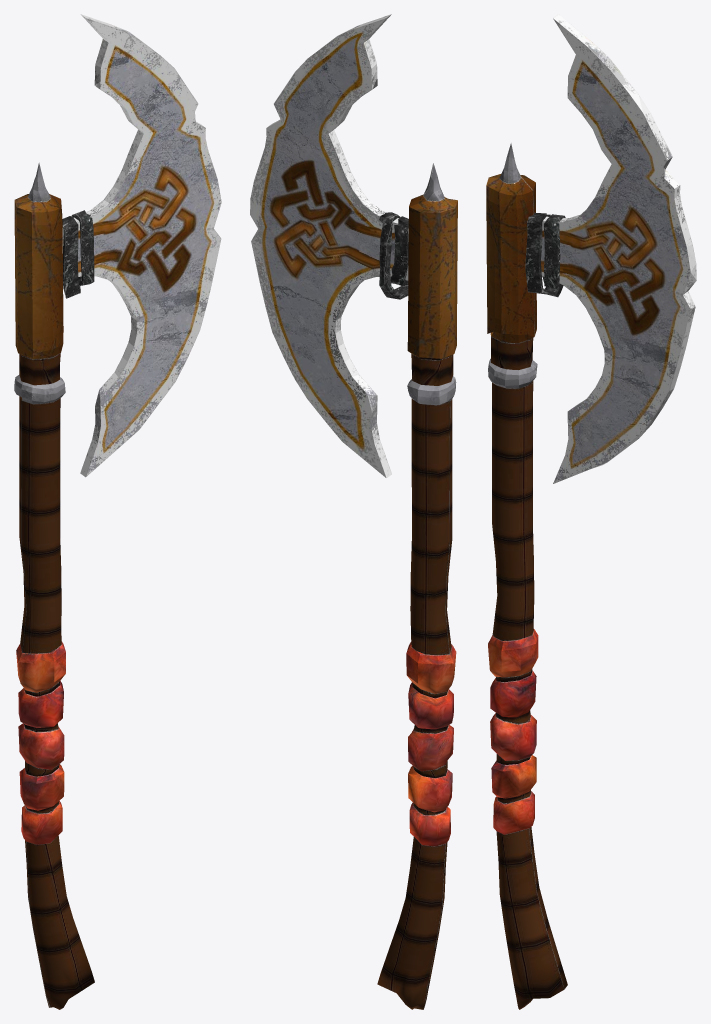
Rendered from Axe3.fbx.
The picture shows the model from 3 angles, left to right: view 1: azimuth 30°, elevation 25°; view 2: azimuth 150°, elevation 25°; view 3: azimuth 330°, elevation 25°; orthographic projection.
Parts seen in each view (by area): view 1: mesh_4; view 2: mesh_4; view 3: mesh_4.
Boxes of the visible parts, left/top/right/bottom form: mesh_4: left=14, top=14, right=221, bottom=1009; mesh_4: left=250, top=14, right=457, bottom=1009; mesh_4: left=486, top=14, right=696, bottom=1009.
Bounding box in the file's own units: 19.32 × 89.78 × 4.2.
Materials: 1 (1 with a texture image).
